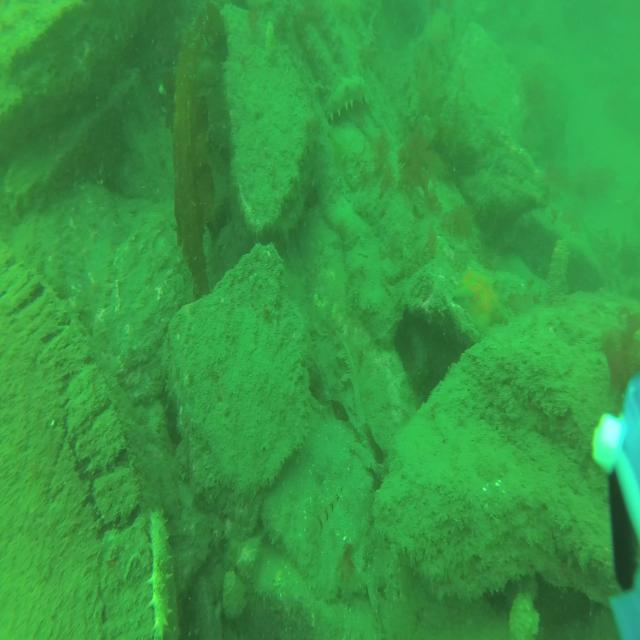echinus: (452, 267, 506, 330)
holothurian: (146, 510, 174, 639), (324, 76, 369, 123)
